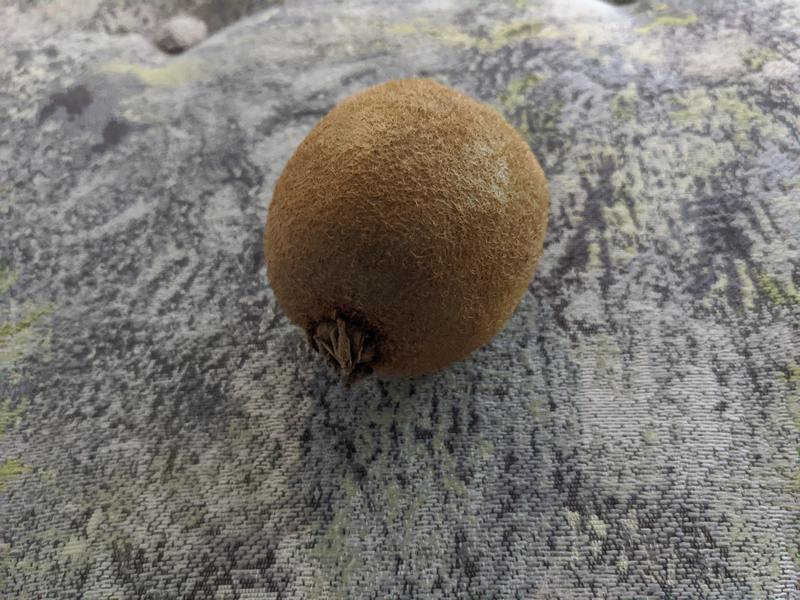kiwi: (264, 77, 550, 379)
